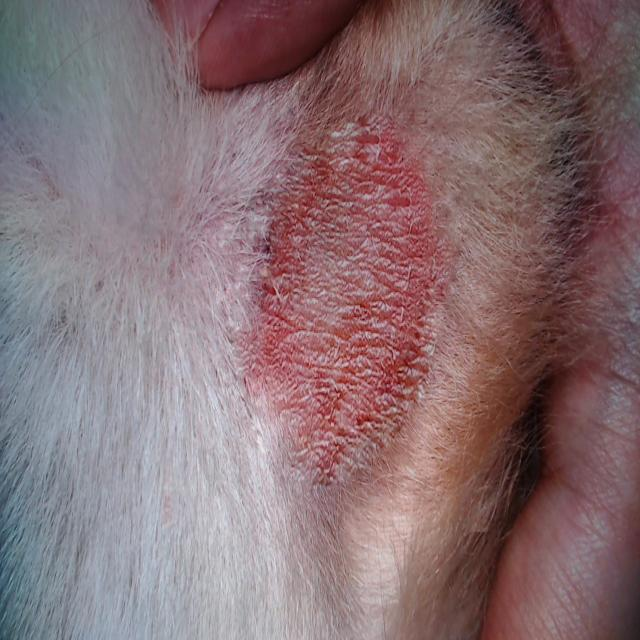ringworm: (253, 111, 436, 497)
